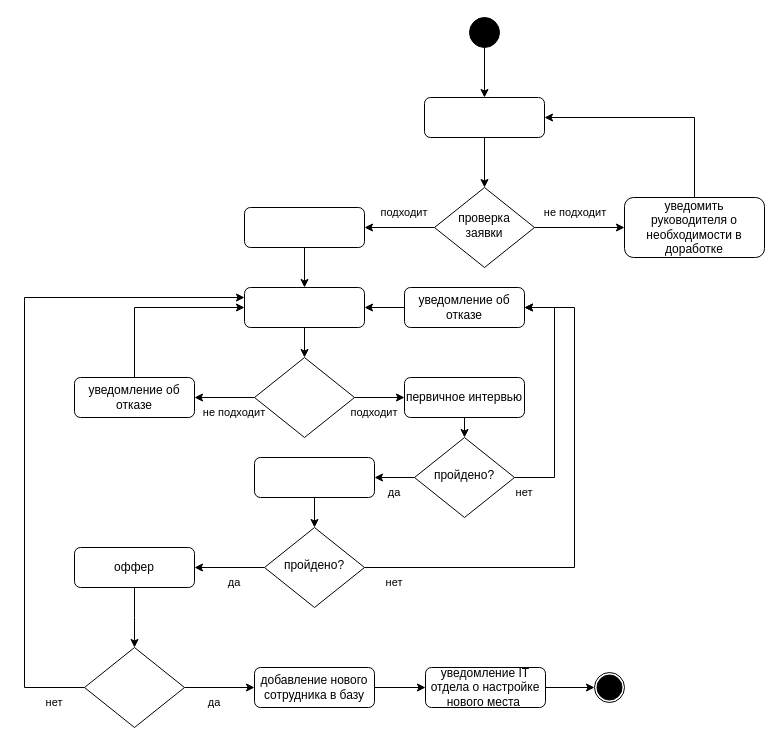
This 782x745 diagram has some shape labels left out. The centre of each missing label's shape, as x and y in pixels:
"опубликовать вакансию" belongs at point 304,227.
"подача заявок от кандидата" belongs at point 304,307.
"подтверждение оффера кандидатом" belongs at point 134,687.
"проверка вакансии" belongs at point 304,397.
"Создание заявки на вакансию" belongs at point 484,117.
"техническое собеседование" belongs at point 314,477.
